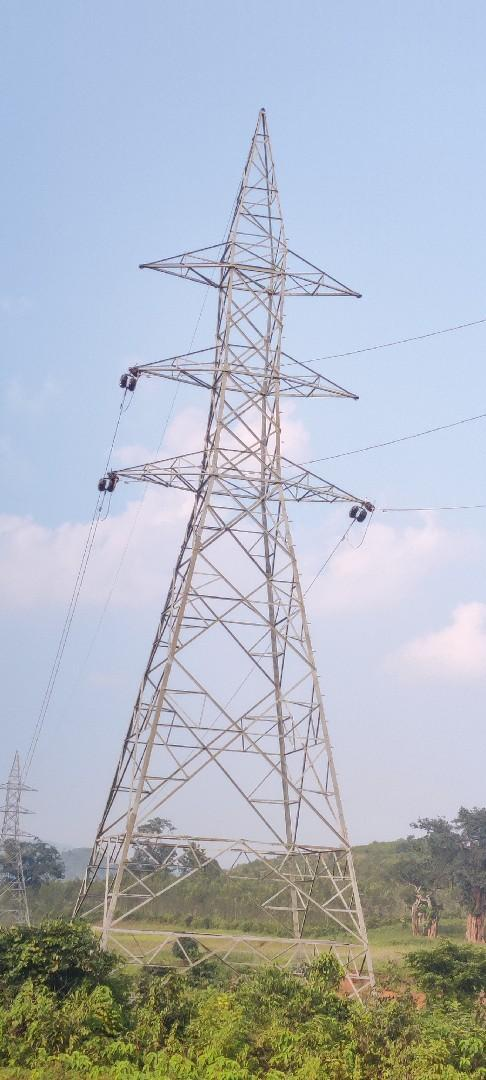GSM Antenna: (69, 84, 393, 904)
